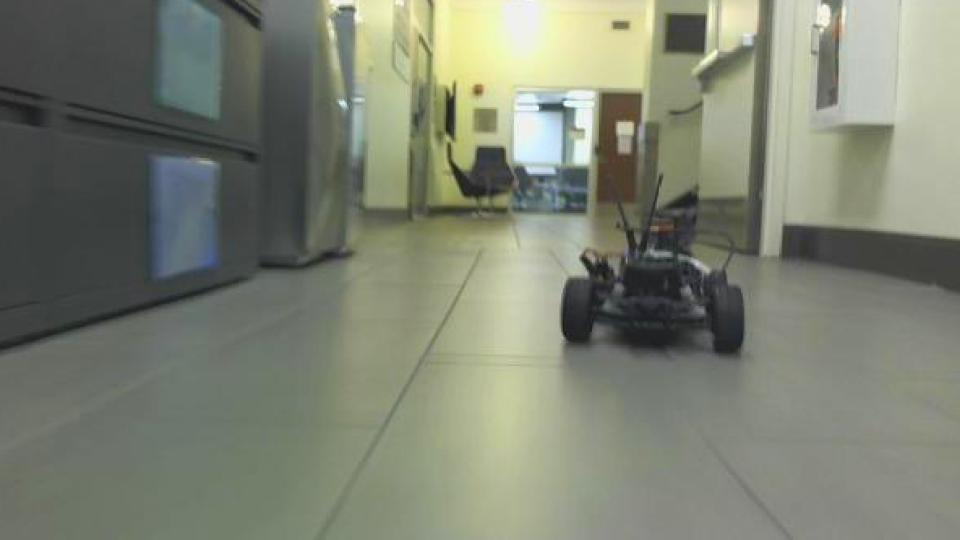car: (558, 171, 751, 356)
